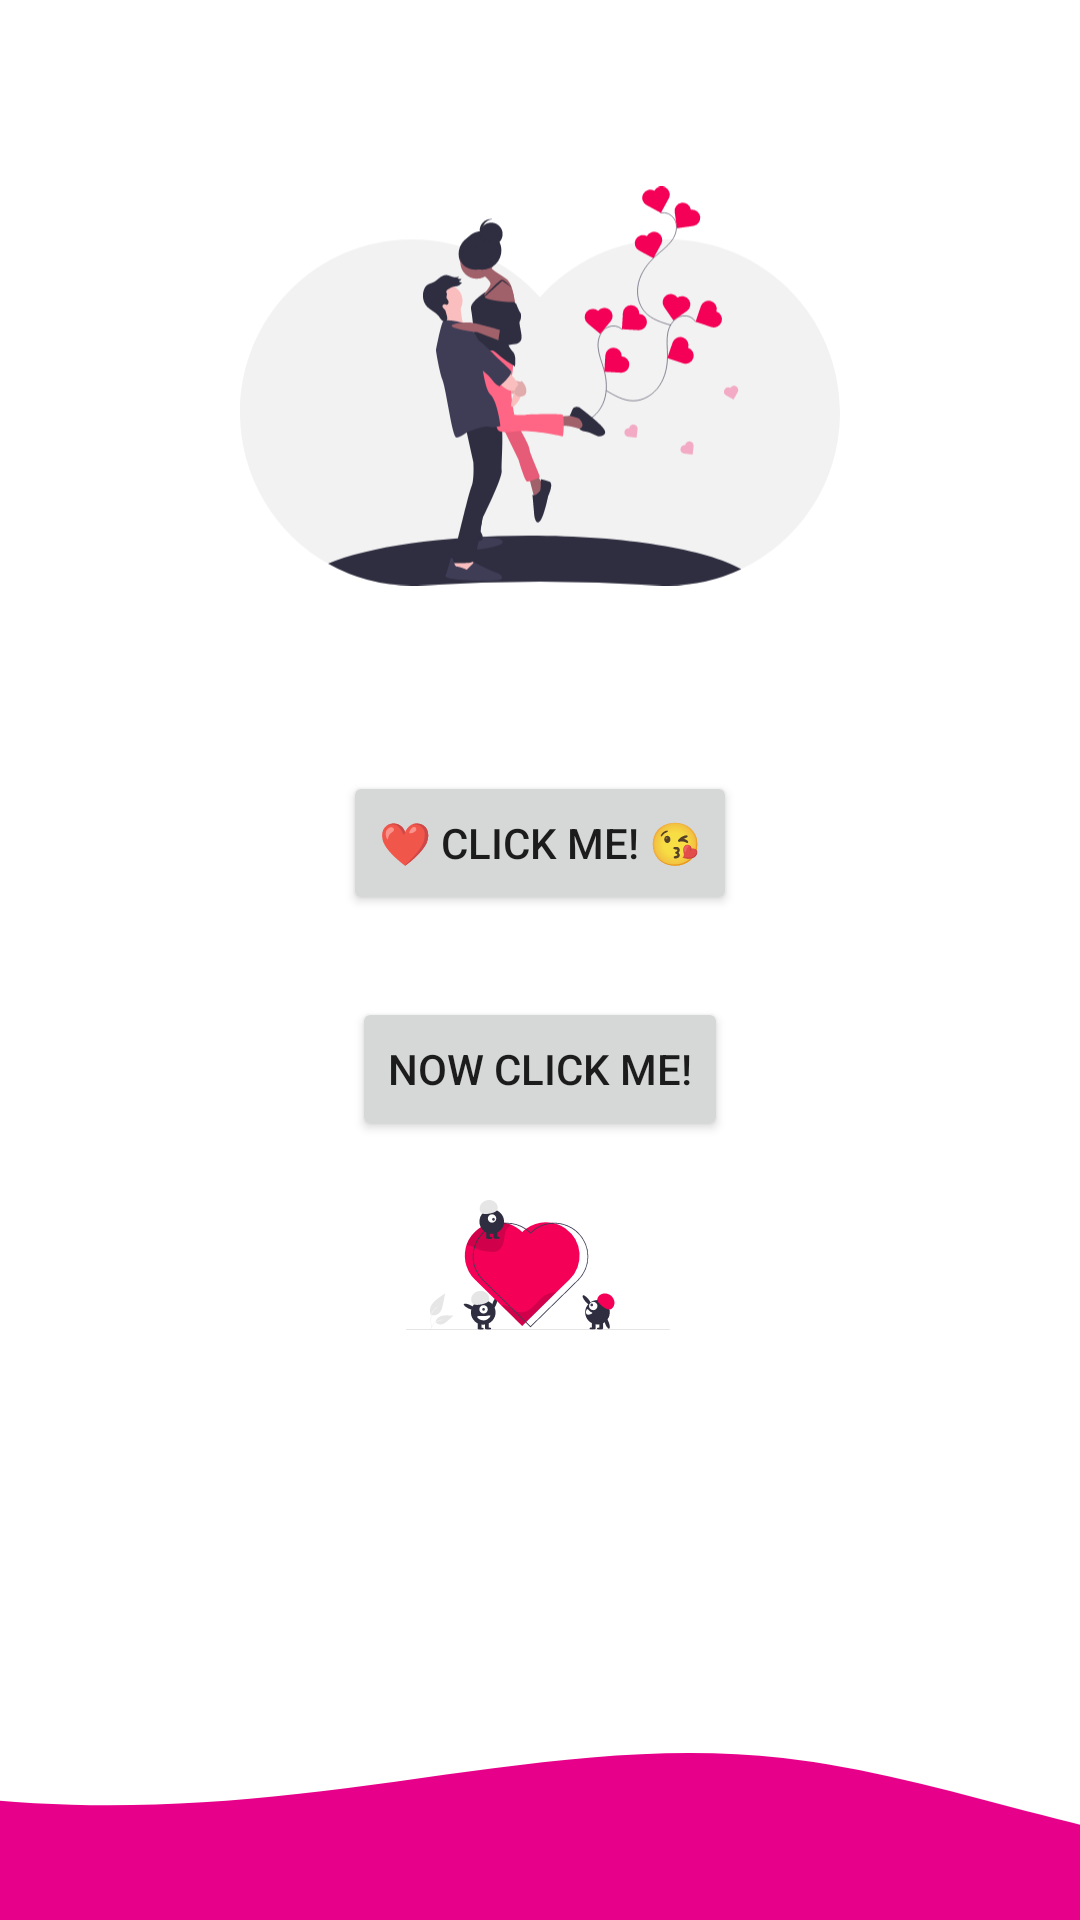

Named icons in this screenshot (1080px×1920px) and their bounding boxes, (x1, y1, x2, y2):
undraw appreciation re rl: (407, 1210, 669, 1330)
